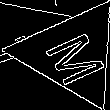M_NE: (34, 22, 108, 85)
